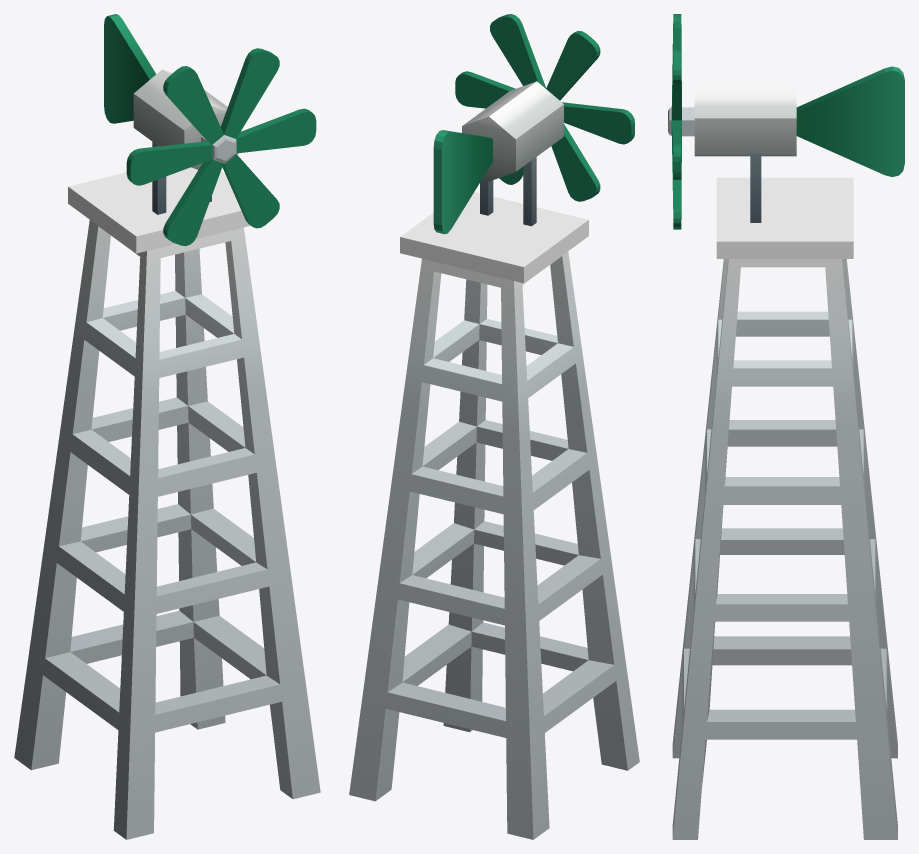
File: GardenFan.fbx
The picture shows the model from 3 angles, left to right: view 1: azimuth 30°, elevation 25°; view 2: azimuth 150°, elevation 25°; view 3: azimuth 270°, elevation 25°; orthographic projection. The views are drawn at different scales.
Parts seen in each view (by area): view 1: GardenFan; view 2: GardenFan; view 3: GardenFan.
Boxes of the visible parts, left/top/right/bottom form: GardenFan: left=14, top=14, right=320, bottom=839; GardenFan: left=349, top=14, right=639, bottom=839; GardenFan: left=668, top=14, right=904, bottom=839.
Bounding box in the file's own units: 0.7056 × 2.62 × 0.7408.
